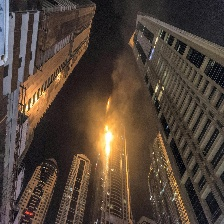fire: (100, 122, 117, 169)
smoke: (104, 47, 144, 116)
